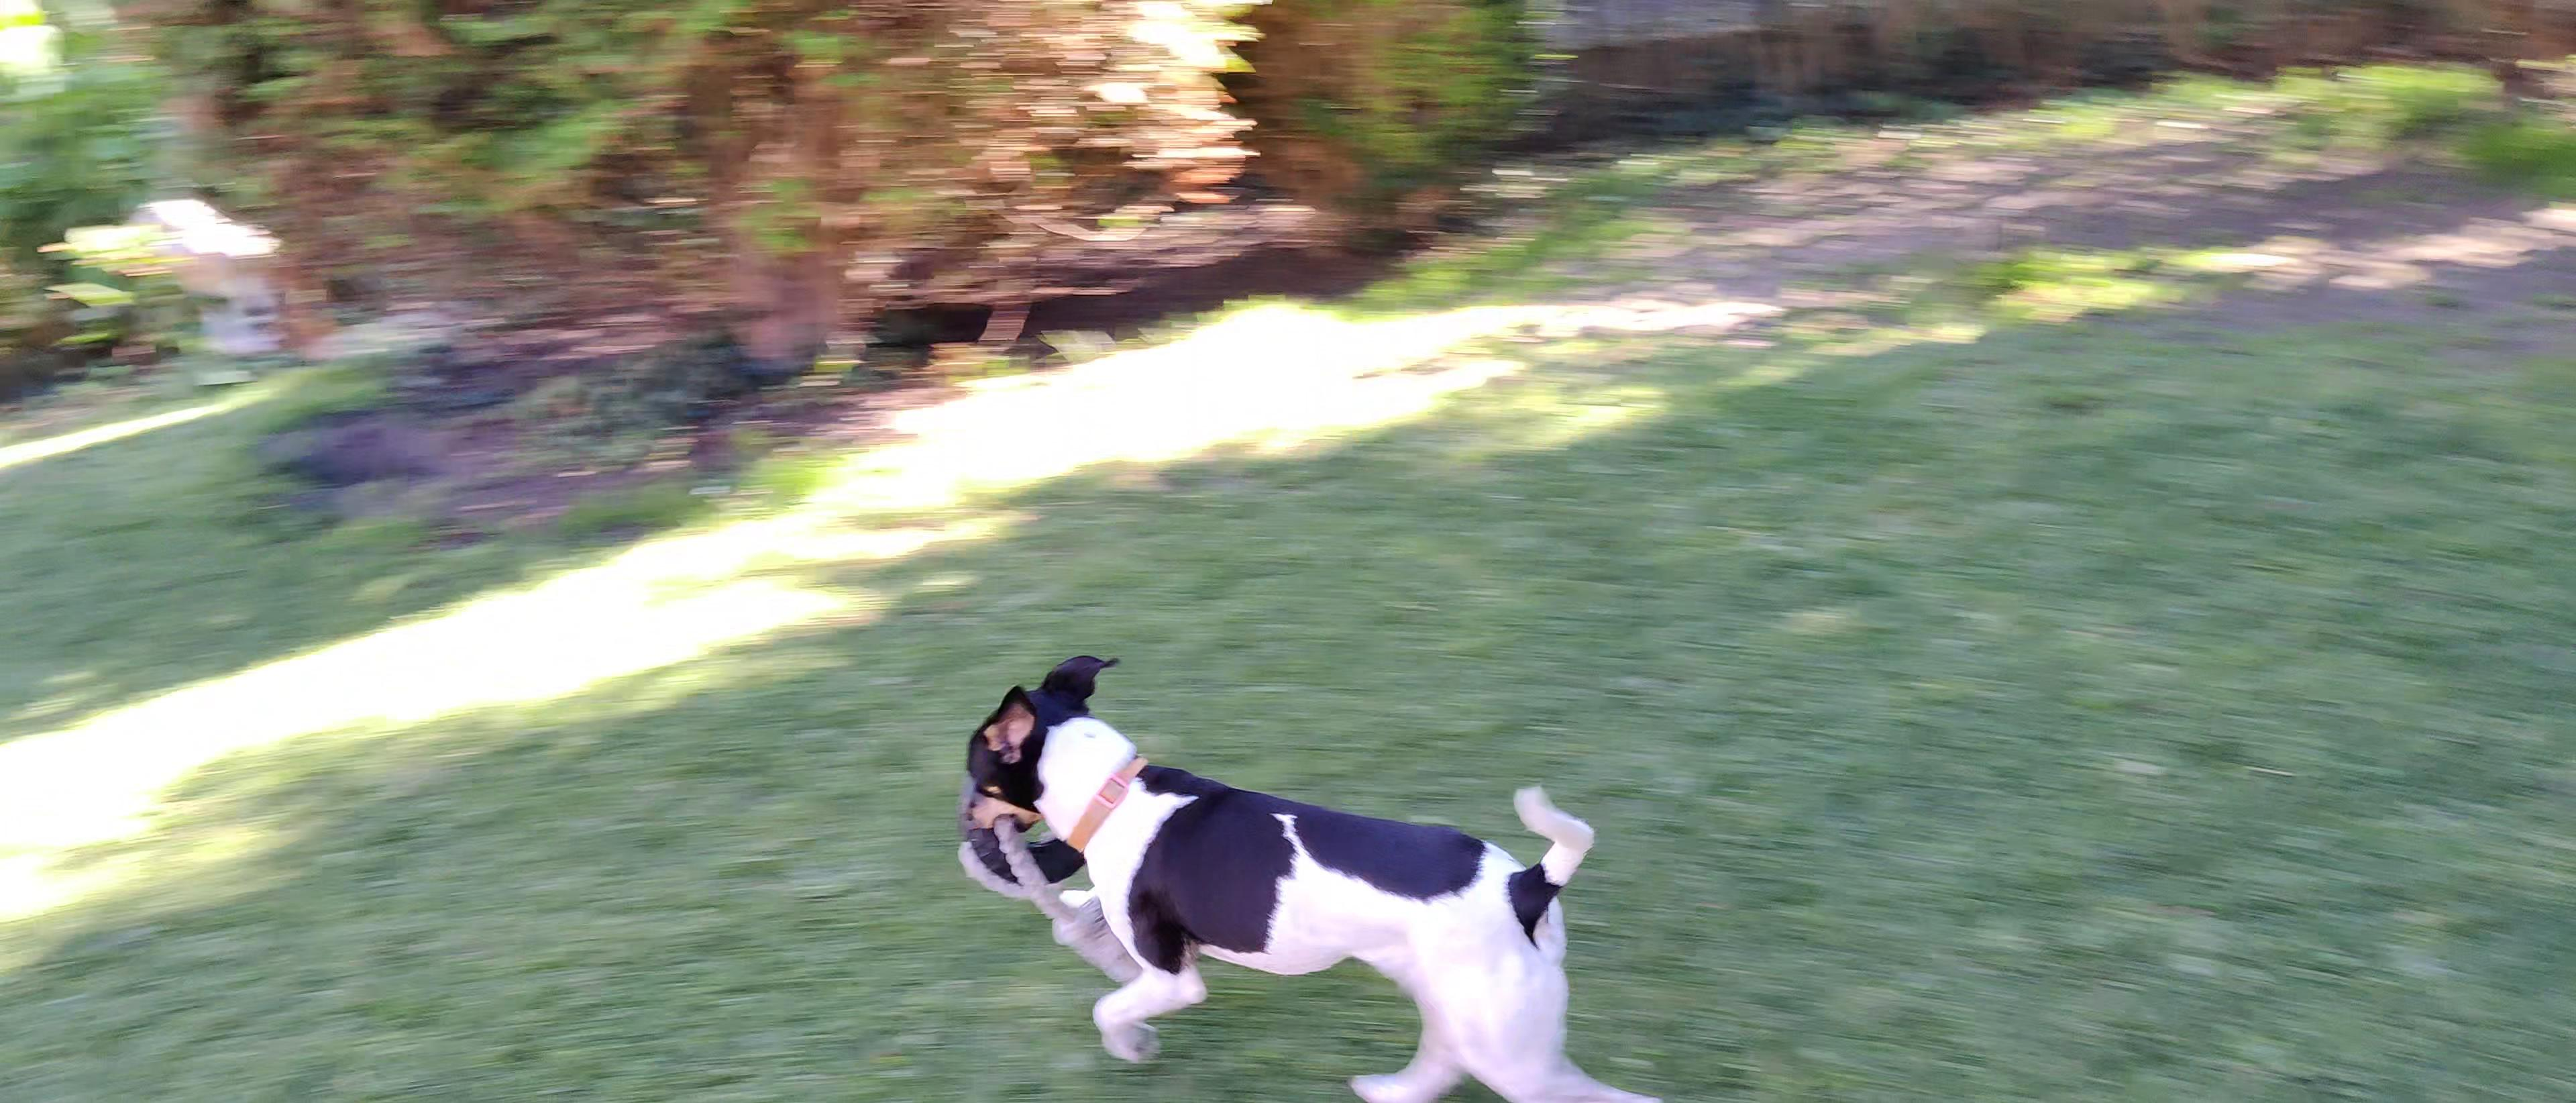Dog: (953, 625, 1690, 1103)
